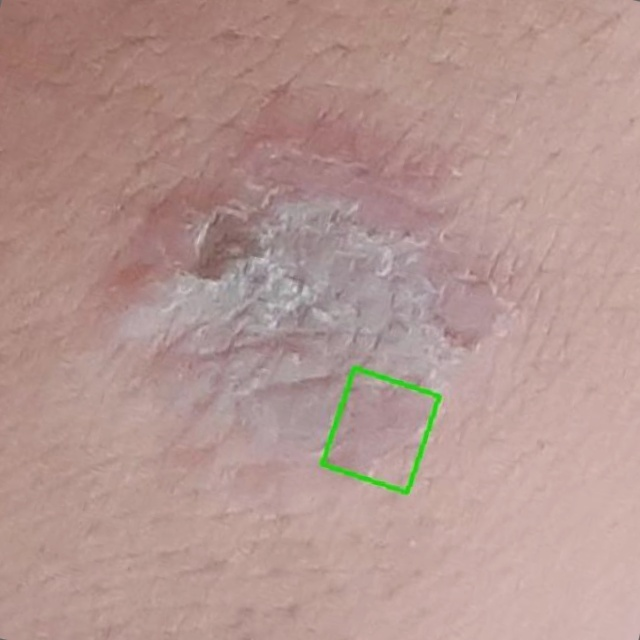Contact Dermatitis: (322, 368, 438, 492)
